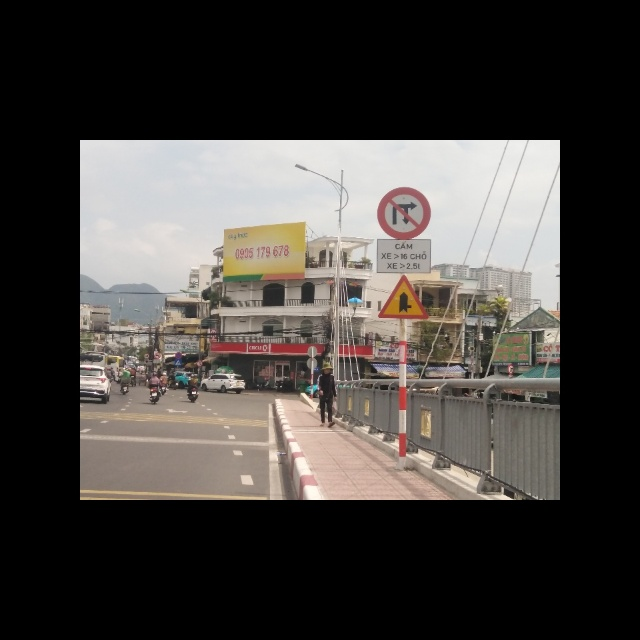Cấm quay đầu và rẽ phải: (376, 187, 431, 240)
Giao nhau với đường không ưu tiên: (379, 276, 428, 321)
